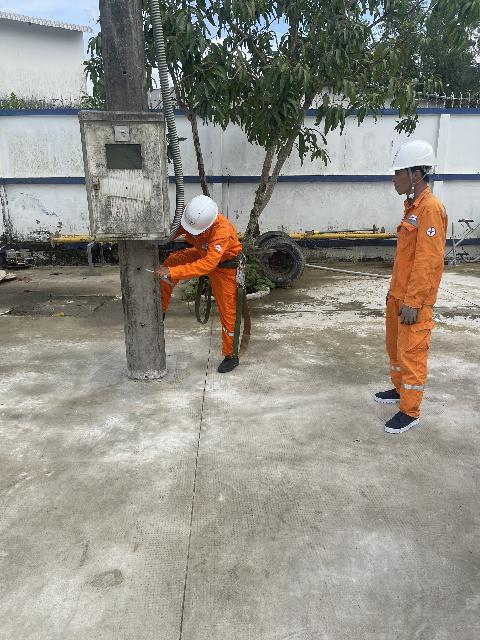gloves: (394, 298, 425, 334)
harness: (206, 252, 259, 270)
helmet: (163, 187, 225, 237), (388, 131, 440, 184)
shoes: (378, 403, 421, 441), (369, 382, 402, 406), (216, 351, 243, 378)
